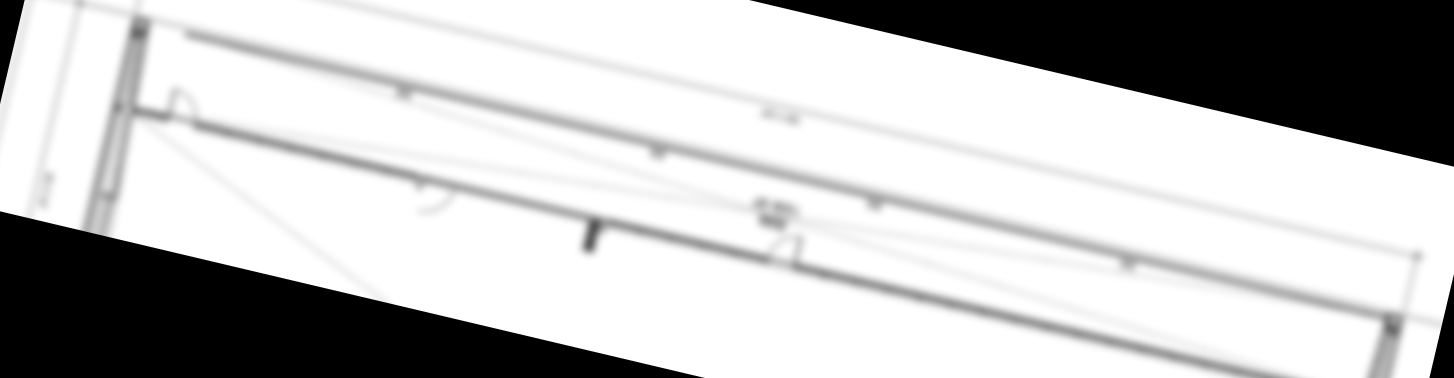door: (158, 83, 207, 136), (761, 227, 806, 273)
